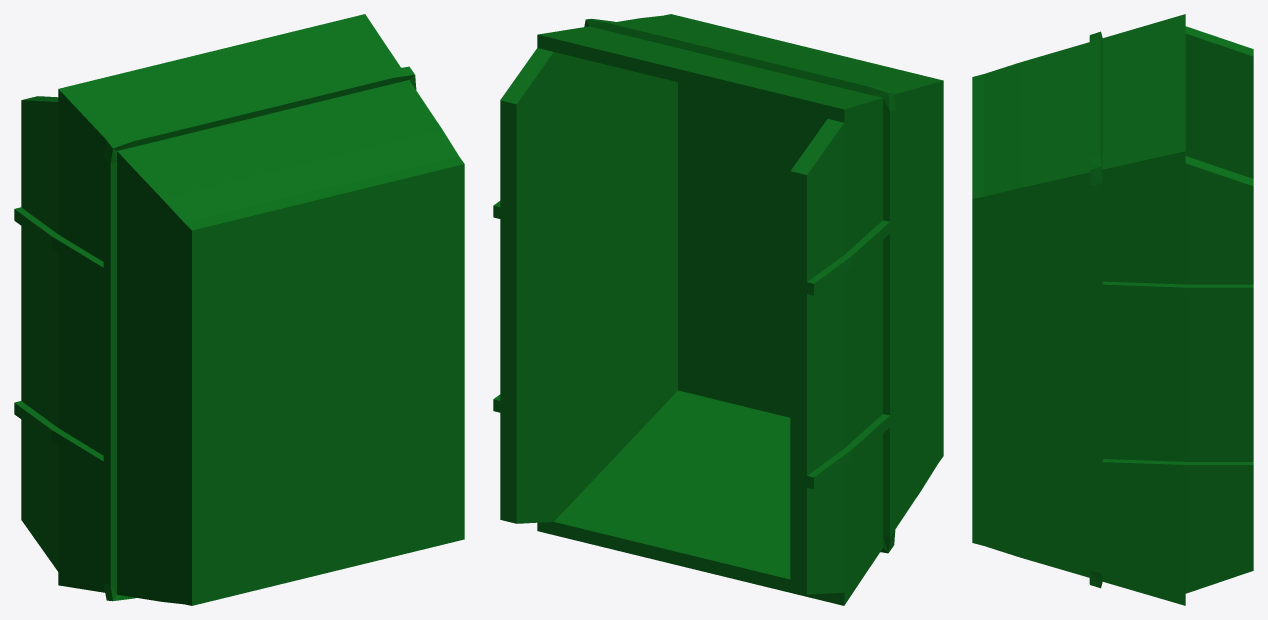
The model's file is dumpster-green.obj.
The picture shows the model from 3 angles, left to right: view 1: azimuth 30°, elevation 25°; view 2: azimuth 150°, elevation 25°; view 3: azimuth 270°, elevation 25°; orthographic projection. The views are drawn at different scales.
Parts seen in each view (by area): view 1: dumpster-green_Plane.202; view 2: dumpster-green_Plane.202; view 3: dumpster-green_Plane.202.
Boxes of the visible parts, box(x1,y1,x2,y2) form: dumpster-green_Plane.202: box(14, 14, 464, 605); dumpster-green_Plane.202: box(493, 14, 943, 605); dumpster-green_Plane.202: box(972, 14, 1253, 605).
Bounding box in the file's own units: 2.5 × 3.71 × 2.08.
